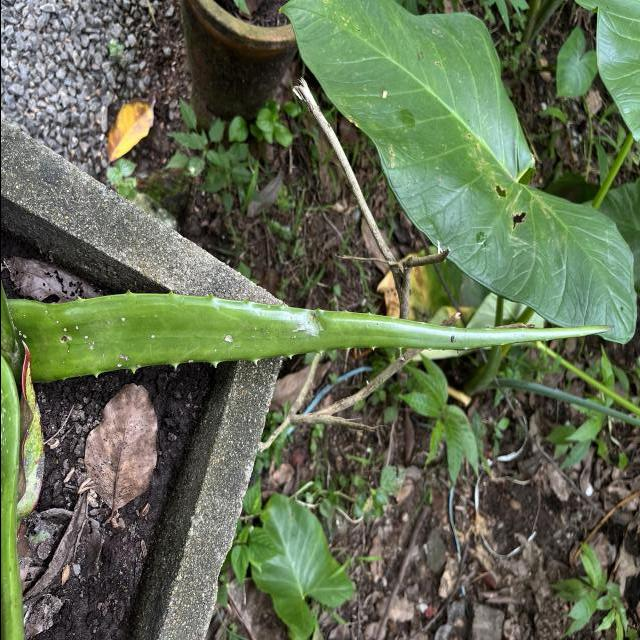Aloe vera: (20, 286, 618, 392)
